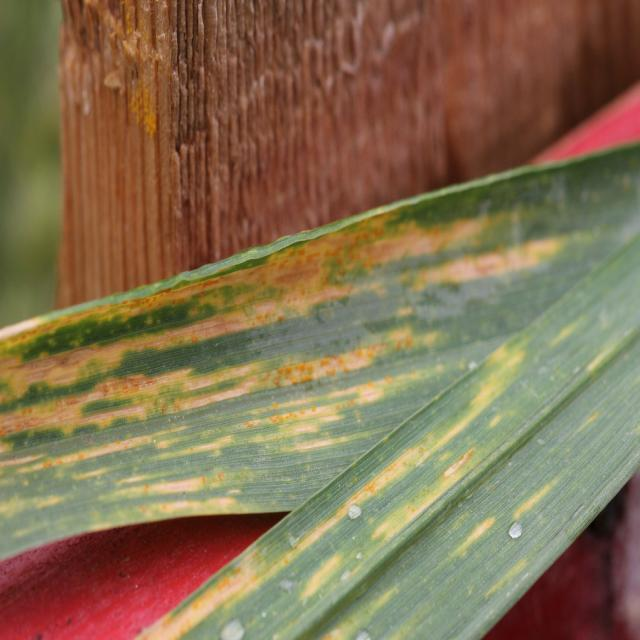wheat-yellowrust: (0, 143, 640, 640)
